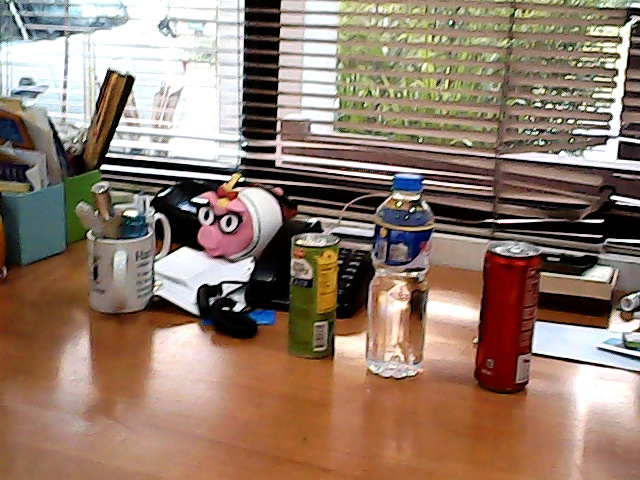Cola: (459, 232, 552, 407)
Pine Juice: (275, 224, 350, 373)
Summit Water: (353, 161, 446, 387)
